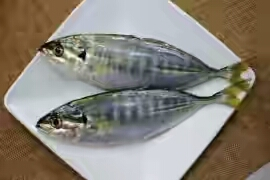Ikan Selar: (21, 18, 252, 95), (37, 82, 258, 143)
